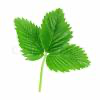Strawberry leaf: (39, 6, 74, 54), (14, 16, 48, 61), (46, 44, 92, 74)
